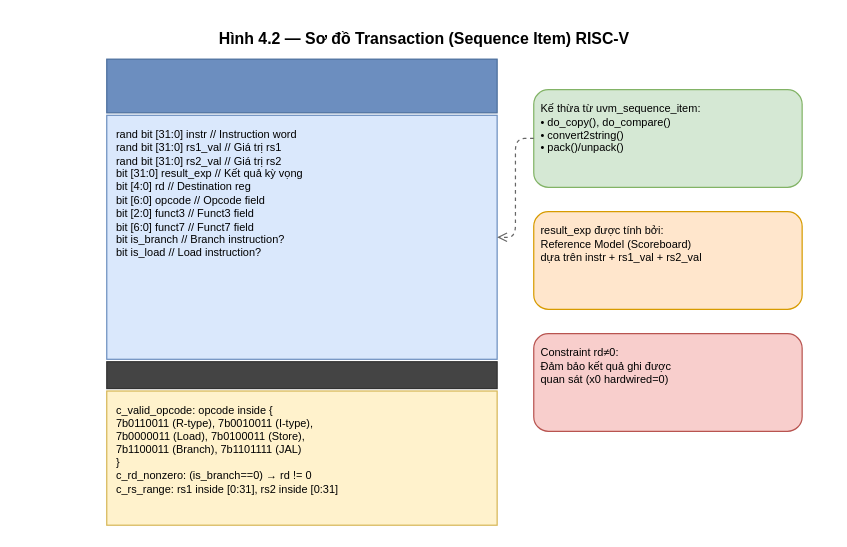
The diagram is 847 pixels wide and 547 high, and some of its shapes have lost their labels. Here are the shapes that lost their labels. From the top down, the centre of each, then its label:
point (301, 85): riscv_seq_item extends uvm_sequence_item
point (301, 375): Constraints
